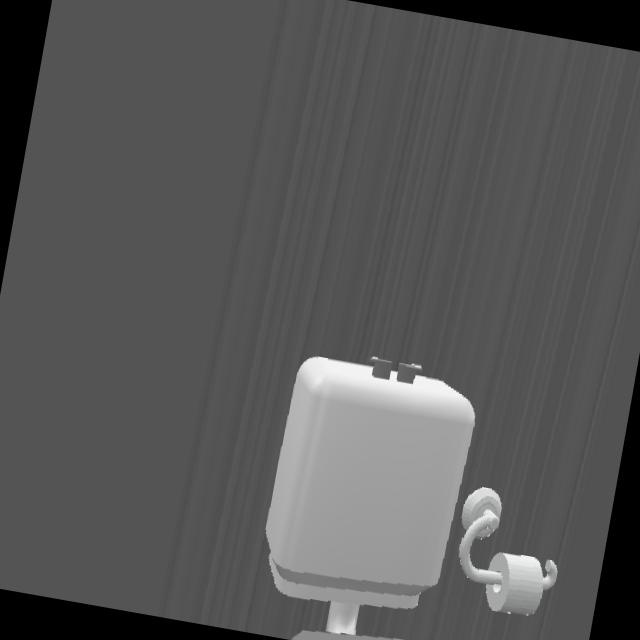toilet: (266, 357, 475, 640)
